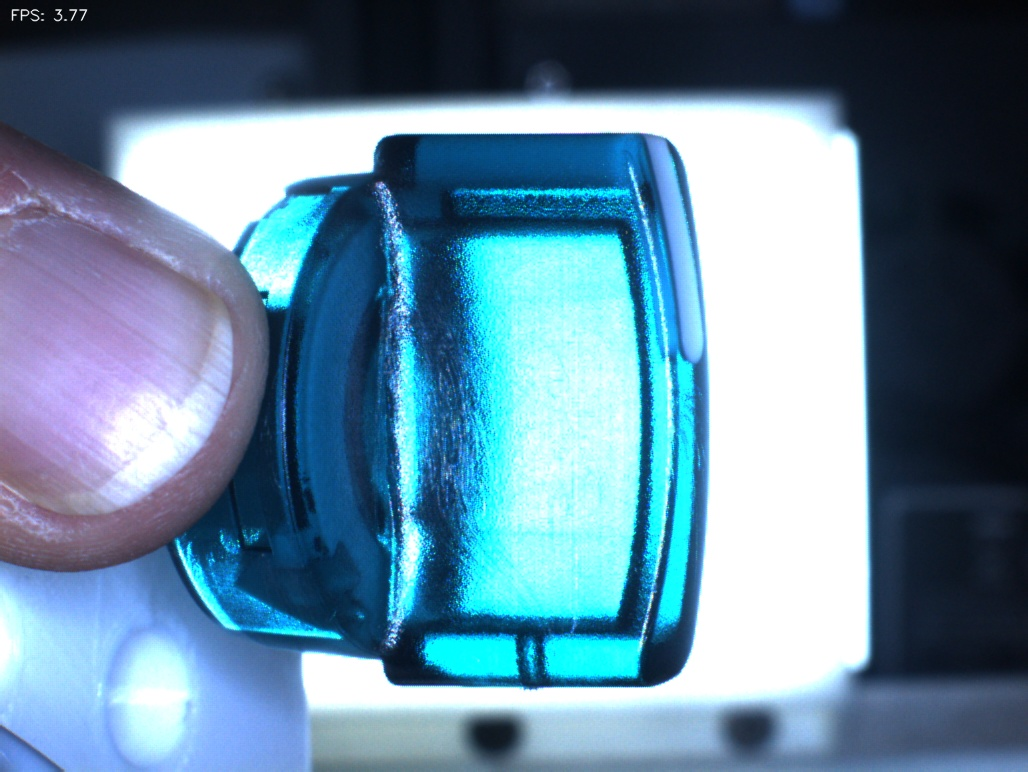Bulle: (486, 600, 579, 709)
